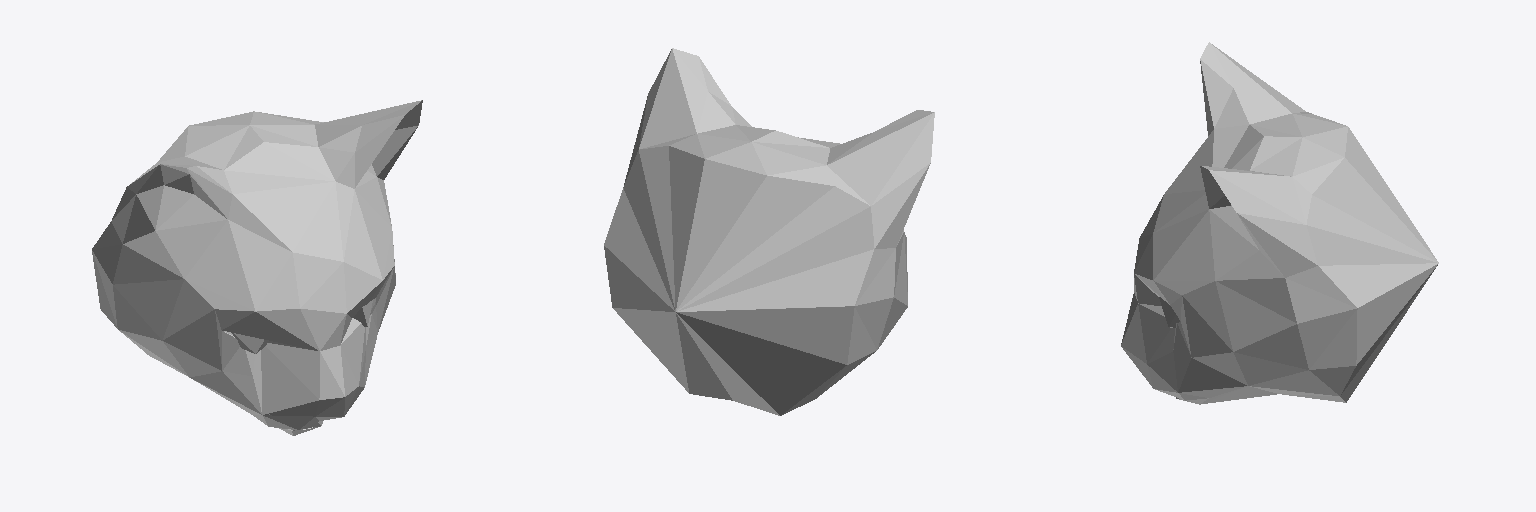
Rendered from cat2.obj.
3 views of the same model, side by side, from view 1: azimuth 30°, elevation 25°; view 2: azimuth 150°, elevation 25°; view 3: azimuth 270°, elevation 25° (orthographic).
Visible parts, largest first — view 1: Mesh7 G_3DGeom_1 SimLab_2018_11_29_14_35_47_1 Model; view 2: Mesh7 G_3DGeom_1 SimLab_2018_11_29_14_35_47_1 Model; view 3: Mesh7 G_3DGeom_1 SimLab_2018_11_29_14_35_47_1 Model.
Boxes of the visible parts, <box> form: Mesh7 G_3DGeom_1 SimLab_2018_11_29_14_35_47_1 Model: <box>92,100,422,435</box>; Mesh7 G_3DGeom_1 SimLab_2018_11_29_14_35_47_1 Model: <box>604,48,934,415</box>; Mesh7 G_3DGeom_1 SimLab_2018_11_29_14_35_47_1 Model: <box>1121,42,1438,404</box>.
Size of the model in its own units: 118 by 120 by 115.